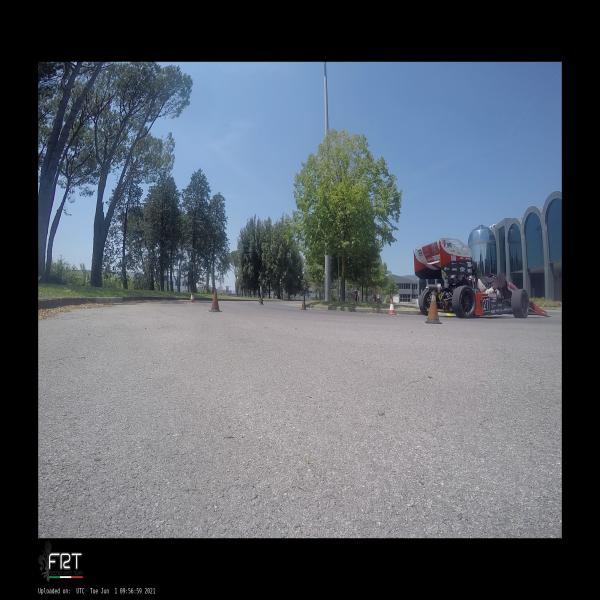orange_cone: (388, 299, 396, 314), (190, 292, 196, 303)
unknown_cone: (424, 290, 443, 324), (209, 288, 222, 312), (299, 298, 308, 311), (259, 298, 264, 305)
